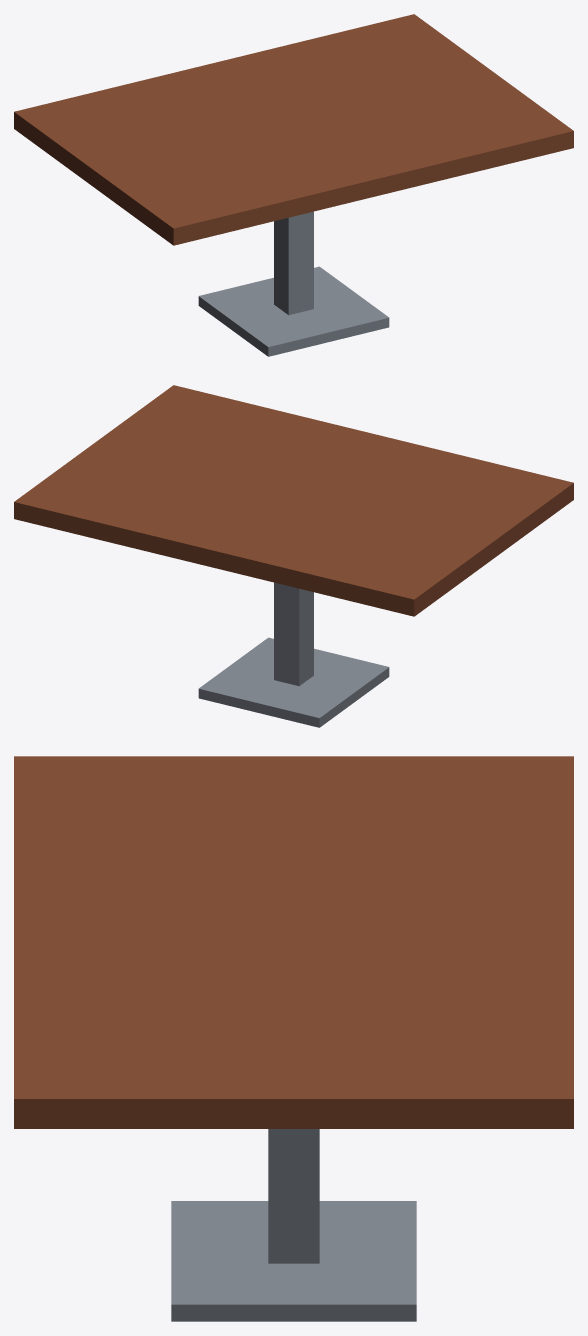
File: AI_Prop_Bar_Table.fbx
3 views of the same model, one above another, from view 1: azimuth 30°, elevation 25°; view 2: azimuth 150°, elevation 25°; view 3: azimuth 270°, elevation 25° (orthographic). The views are drawn at different scales.
Visible parts, largest first — view 1: AI_Prop_Bar_Table; view 2: AI_Prop_Bar_Table; view 3: AI_Prop_Bar_Table.
Part boxes in pixels (x1,y1,x2,y2): AI_Prop_Bar_Table: [14, 14, 573, 356]; AI_Prop_Bar_Table: [14, 385, 573, 727]; AI_Prop_Bar_Table: [14, 756, 573, 1321].
Bounding box in the file's own units: 3.14 × 1.46 × 2.17.
